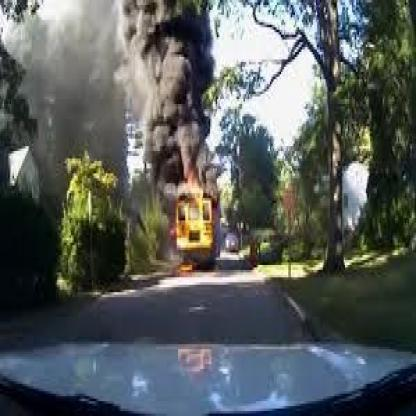smoke: (109, 2, 232, 186)
